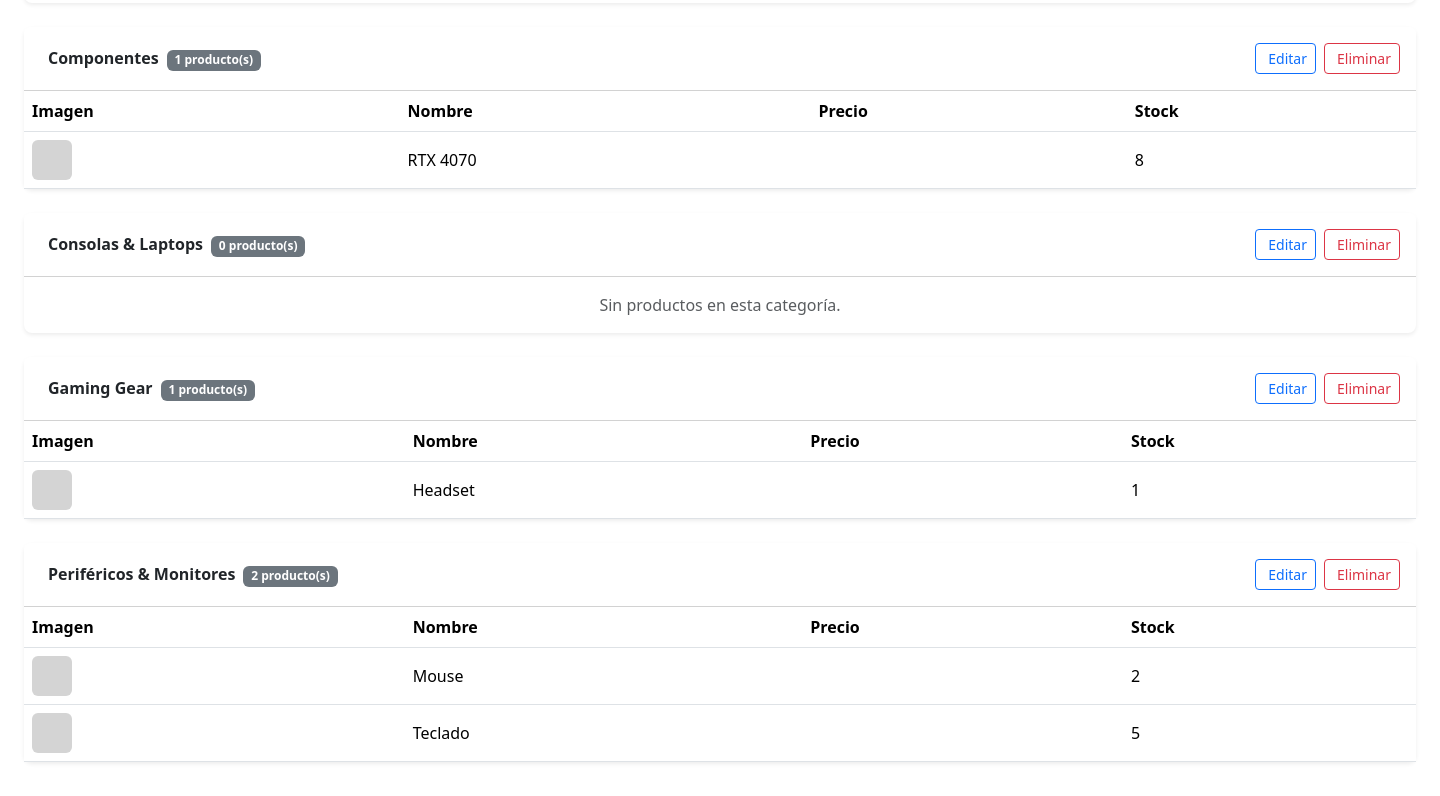
Test: AdminCategorias › editar › si ms-categoria falla al actualizar muestra el error y deja abierto el formulario
(page scrolled)
Expected: the text "Periféricos & Monitores" is shown, [48, 563, 235, 585]
Step 1. Click the button "Editar" in the row of "Periféricos & Monitores" → (1286,574), box [1255, 559, 1316, 590]
(page scrolled)
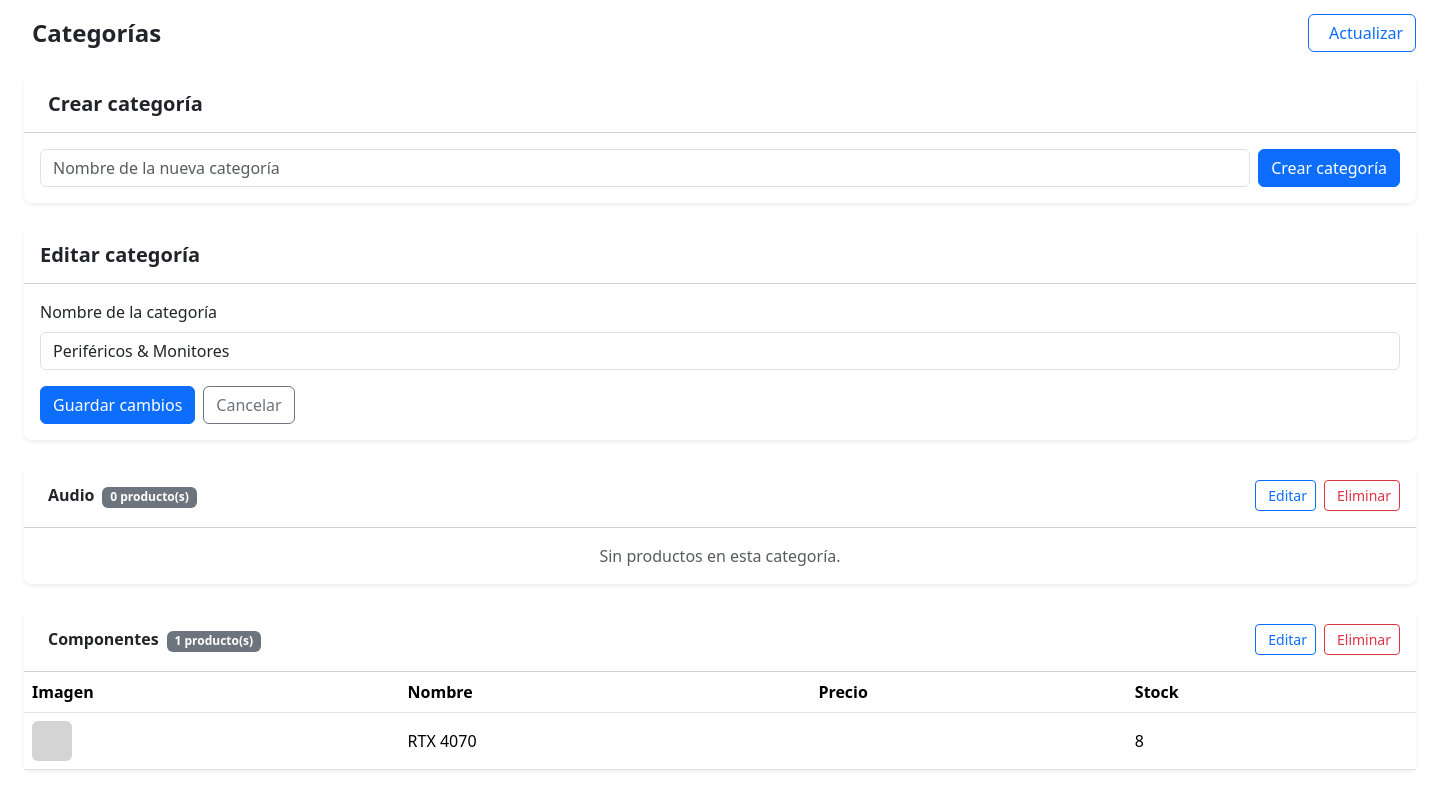
Step 2. Click the button "Guardar cambios" → (118,405), box [40, 386, 195, 424]
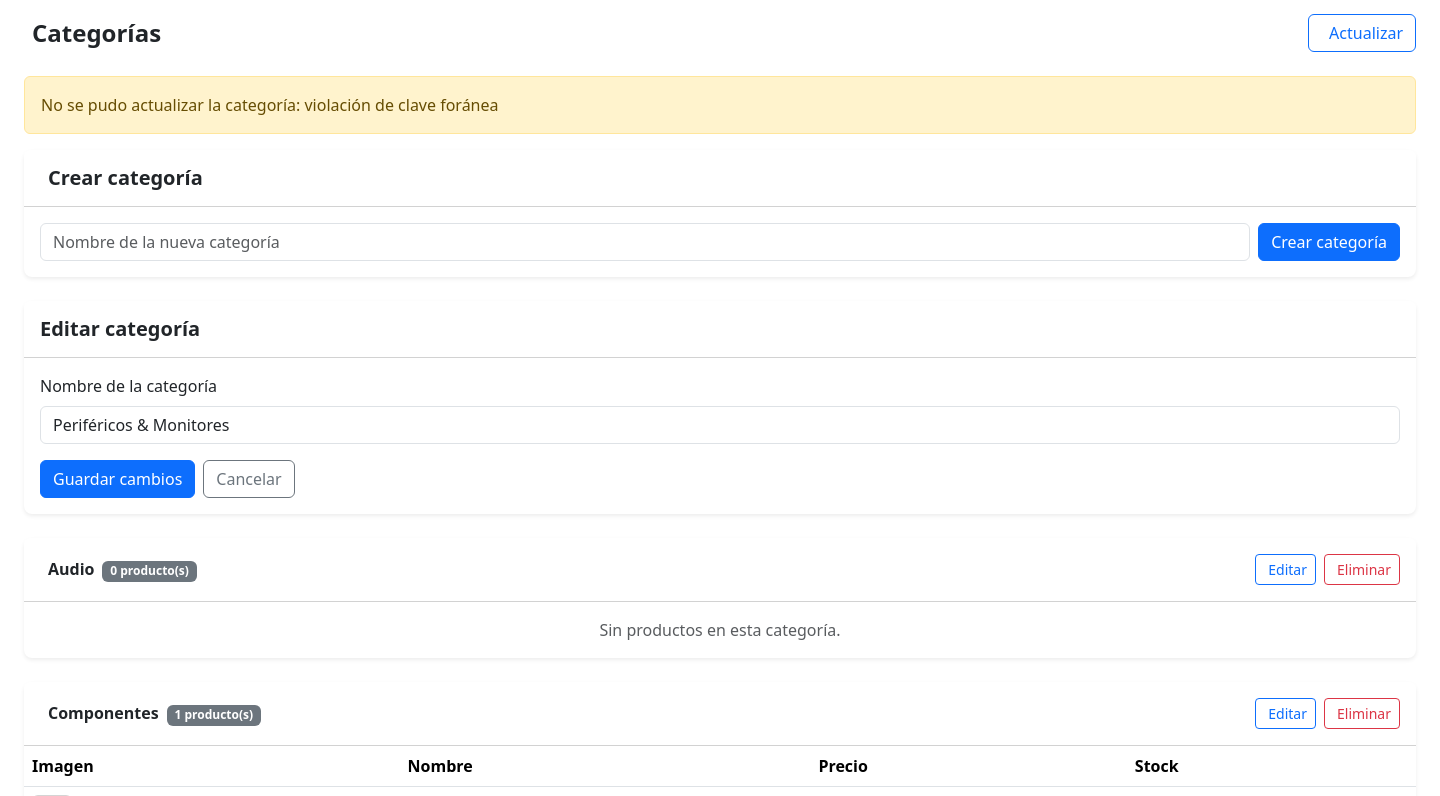
Now the field labelled "Nombre de la categoría" is shown, box [40, 406, 1400, 444]
Now the text "No se pudo actualizar la categoría" shows "violación de clave foránea", box [41, 94, 498, 116]
